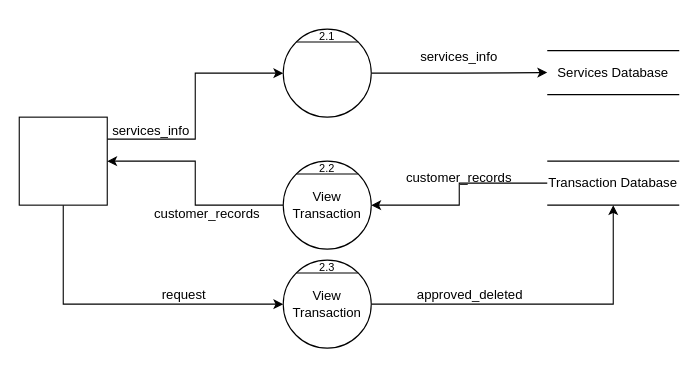
This 700x367 diagram has some shape labels left out. Each missing label, with the box of its shape:
Admin: (18, 116, 107, 205)
Update Services: (282, 28, 371, 117)
